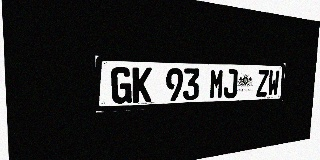3: (183, 68, 200, 100)
9: (166, 68, 183, 101)
G: (111, 67, 132, 104)
J: (223, 69, 238, 98)
K: (132, 67, 152, 103)
M: (209, 69, 224, 99)
W: (267, 70, 280, 96)
Z: (256, 70, 269, 97)
